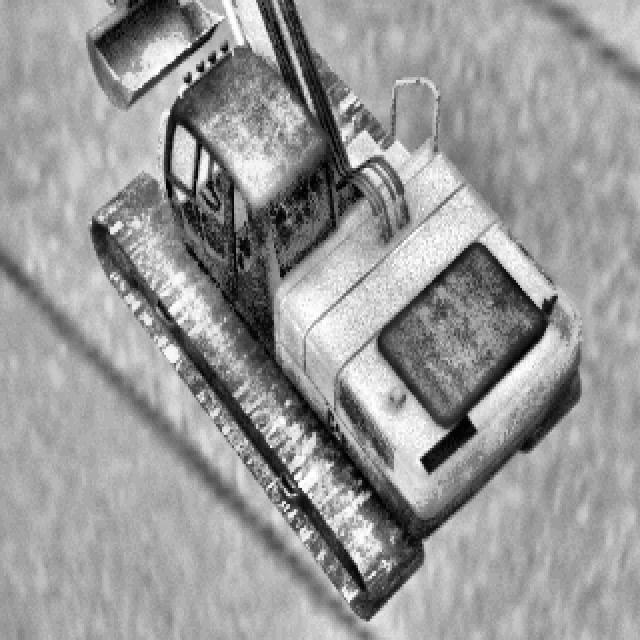excavator: (4, 0, 578, 621)
